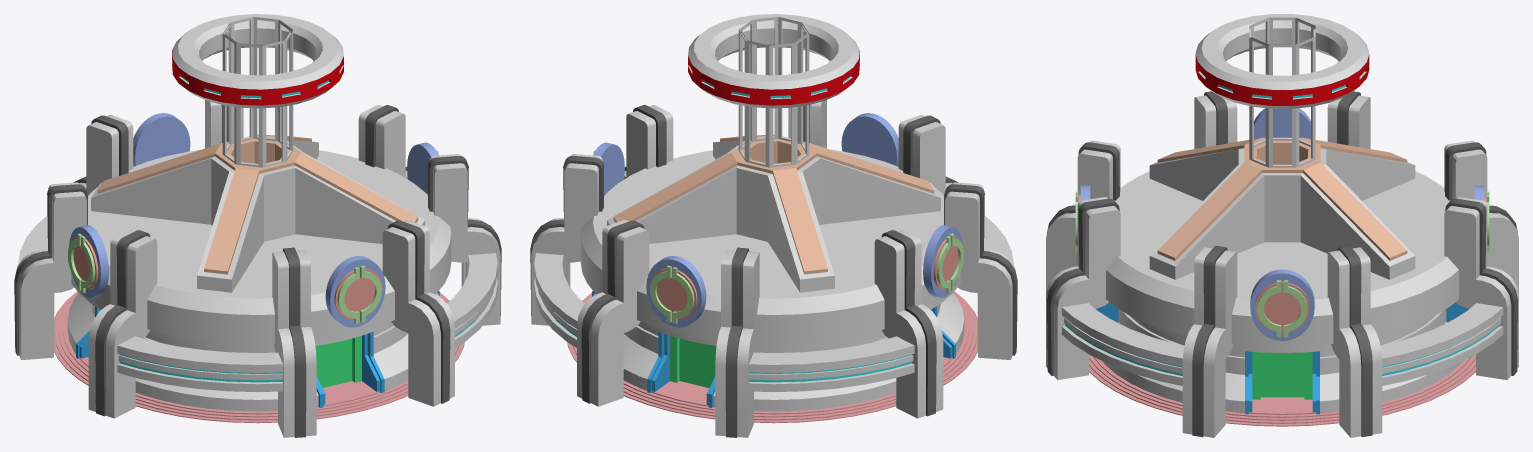
Rendered from SpaceElevator.fbx.
The picture shows the model from 3 angles, left to right: view 1: azimuth 30°, elevation 25°; view 2: azimuth 150°, elevation 25°; view 3: azimuth 270°, elevation 25°; orthographic projection.
Visible parts, largest first — view 1: Space Building, Space Ring LOD, Space Tube; view 2: Space Building, Space Ring LOD, Space Tube; view 3: Space Building, Space Ring LOD, Space Tube.
Boxes of the visible parts, x1,y1,x2,y2 form: Space Building: (14, 100, 501, 437); Space Ring LOD: (172, 14, 343, 108); Space Tube: (222, 17, 293, 167); Space Building: (530, 100, 1017, 437); Space Ring LOD: (688, 14, 859, 108); Space Tube: (738, 17, 809, 167); Space Building: (1046, 91, 1518, 437); Space Ring LOD: (1195, 14, 1369, 108); Space Tube: (1249, 17, 1315, 167).
Size of the model in its own units: 191 by 136 by 191.
